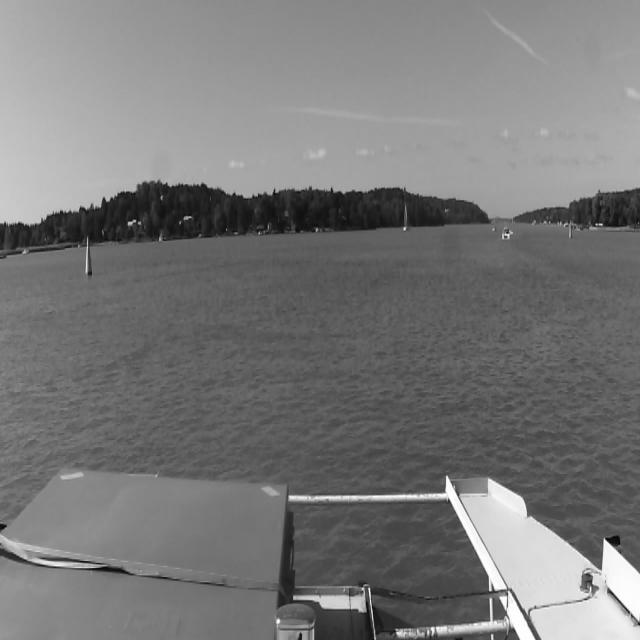buoy: (85, 232, 91, 276)
ship: (503, 227, 513, 239), (403, 205, 407, 233)
